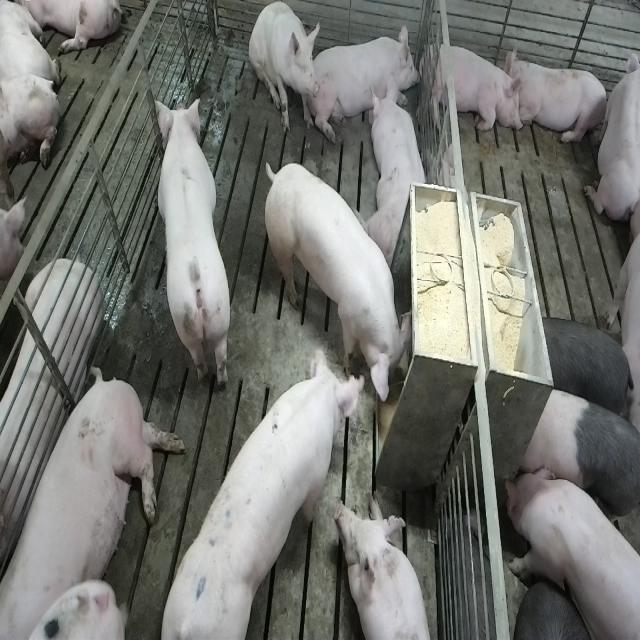Feeding: (270, 162, 418, 408)
Lateral_lying: (5, 362, 187, 636), (0, 259, 103, 576)
Sitting: (249, 2, 320, 136)
Standing: (154, 343, 368, 636), (150, 93, 231, 396), (502, 462, 638, 640), (516, 384, 638, 539), (536, 315, 632, 420)
Sternal_lying: (338, 496, 436, 640), (313, 21, 423, 138), (369, 85, 430, 267), (583, 40, 637, 225), (508, 52, 610, 149), (424, 38, 520, 138)
